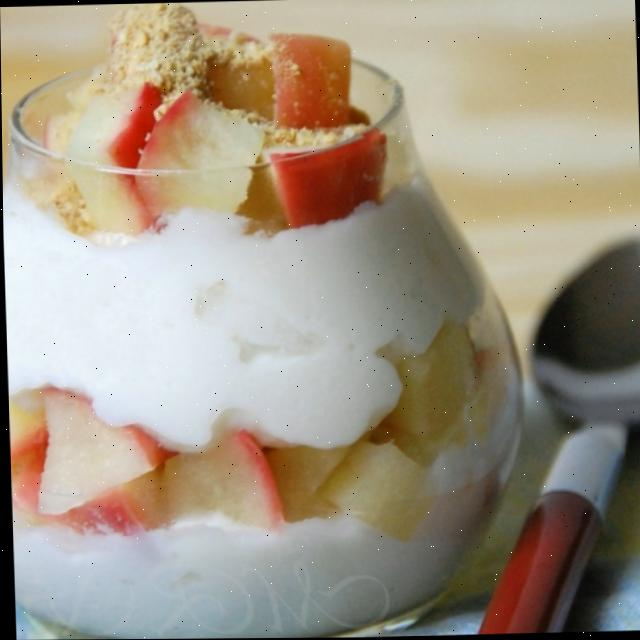蛋糕甜品: (0, 6, 548, 628)
